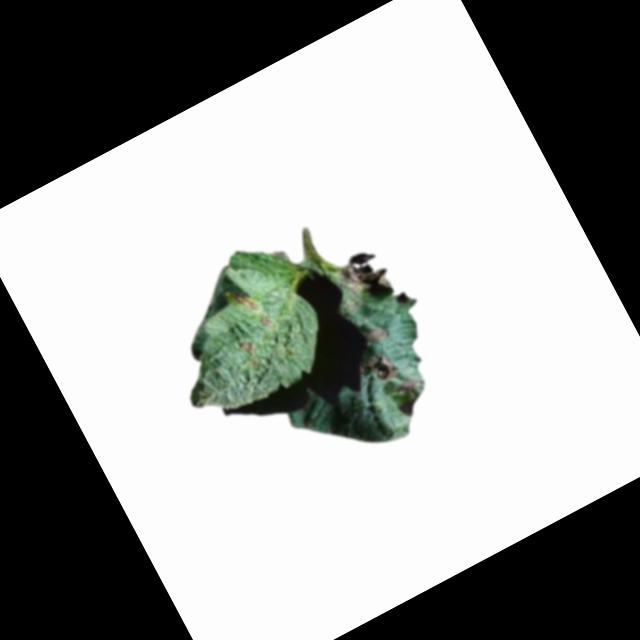Early_blight: (330, 243, 399, 314), (356, 349, 400, 390), (229, 285, 259, 318), (364, 324, 391, 348), (396, 375, 423, 399), (256, 312, 273, 331), (242, 342, 254, 355)
